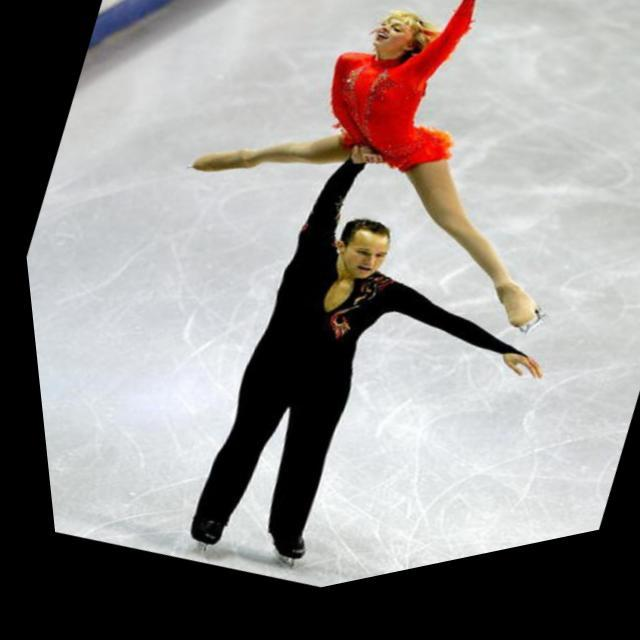Nonhelmet: (327, 210, 393, 297), (369, 5, 428, 65)
